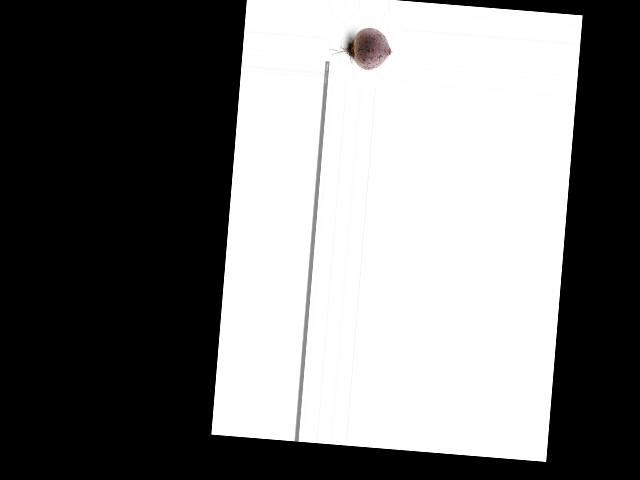beet: (327, 24, 393, 72)
